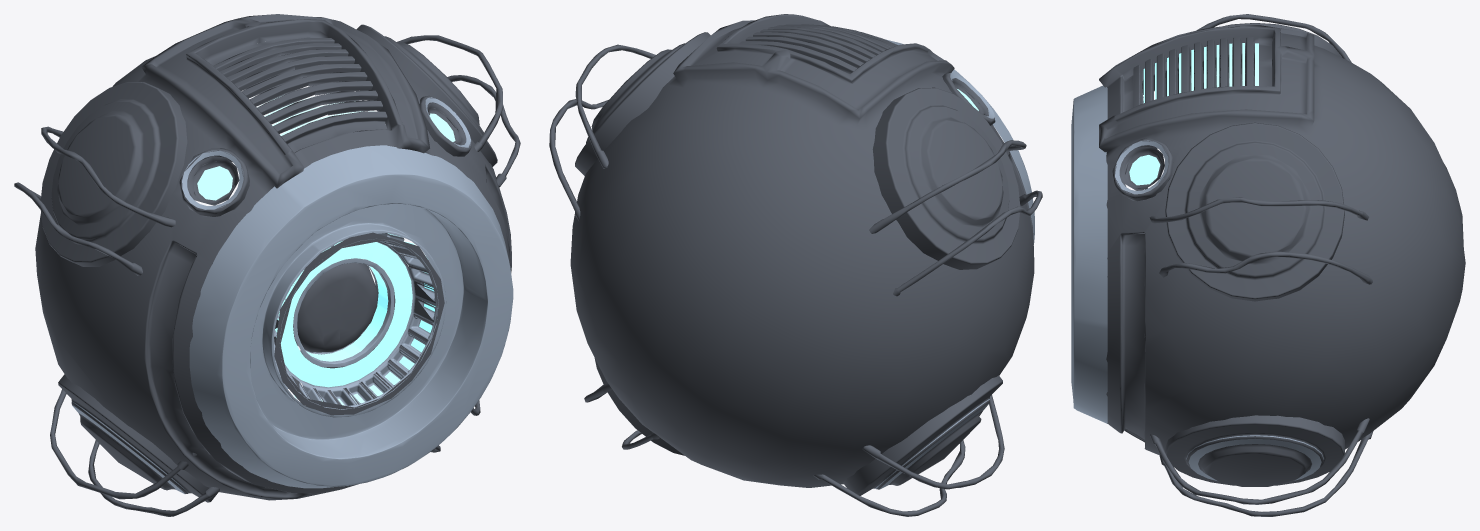
File: drone.glb
3 renders of one model, left to right at view 1: azimuth 30°, elevation 25°; view 2: azimuth 150°, elevation 25°; view 3: azimuth 270°, elevation 25°, orthographic. The views are drawn at different scales.
Parts seen in each view (by area): view 1: Frame, Hull, Lights; view 2: Frame, Hull; view 3: Frame, Hull, Lights.
Boxes of the visible parts, x1,y1,x2,y2 form: Frame: [14, 14, 520, 516]; Hull: [72, 97, 513, 493]; Lights: [197, 96, 455, 405]; Frame: [549, 14, 1042, 516]; Hull: [875, 39, 1034, 489]; Frame: [1099, 14, 1465, 516]; Hull: [1071, 85, 1323, 480]; Lights: [1129, 43, 1258, 185].
Bounding box in the file's own units: 0.999 × 0.9148 × 0.8075.
